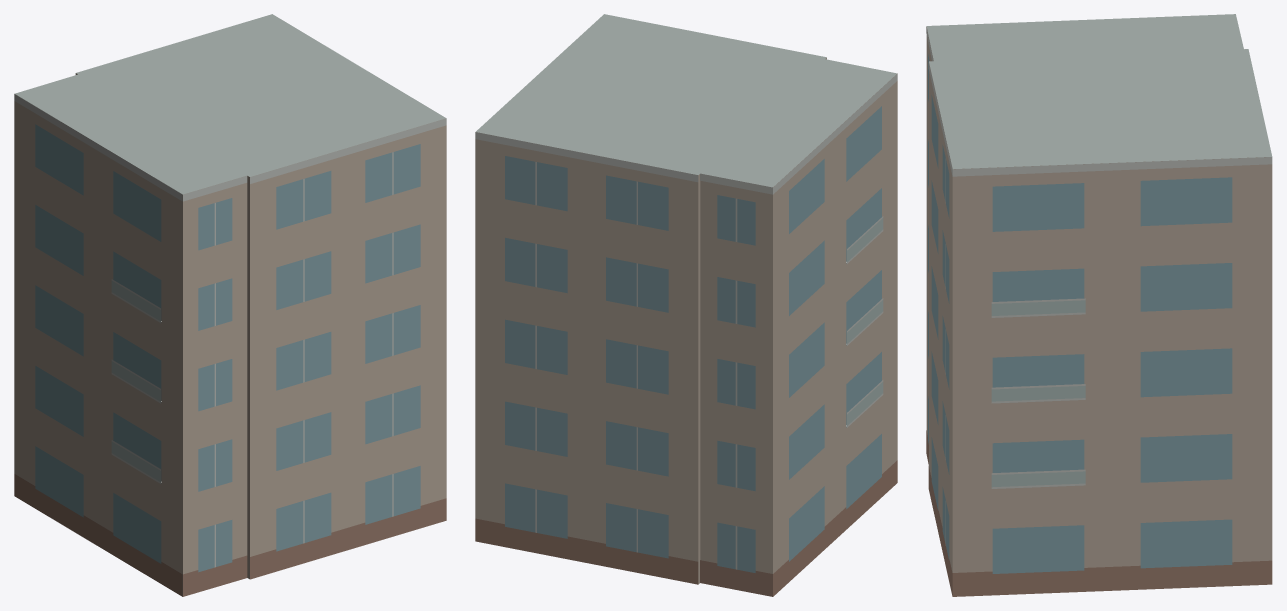
The model's file is survey-upis-32611323.glb.
The picture shows the model from 3 angles, left to right: view 1: azimuth 30°, elevation 25°; view 2: azimuth 150°, elevation 25°; view 3: azimuth 270°, elevation 25°; orthographic projection. The views are drawn at different scales.
Parts seen in each view (by area): view 1: survey-upis-32611323.tmp; view 2: survey-upis-32611323.tmp; view 3: survey-upis-32611323.tmp.
Boxes of the visible parts, box(x1,y1,x2,y2) form: survey-upis-32611323.tmp: box(14, 14, 446, 596); survey-upis-32611323.tmp: box(475, 14, 897, 596); survey-upis-32611323.tmp: box(926, 14, 1272, 596).
Bounding box in the file's own units: 10.82 × 13.9 × 10.2.
